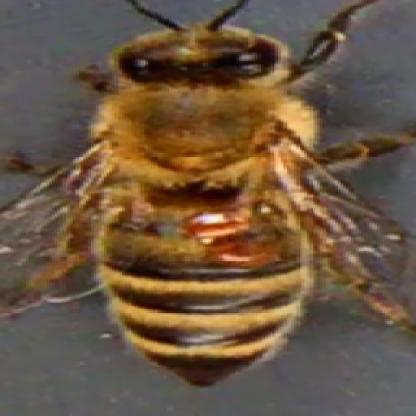bee: (80, 23, 341, 388)
vaoora: (212, 240, 279, 270), (189, 210, 253, 231)
